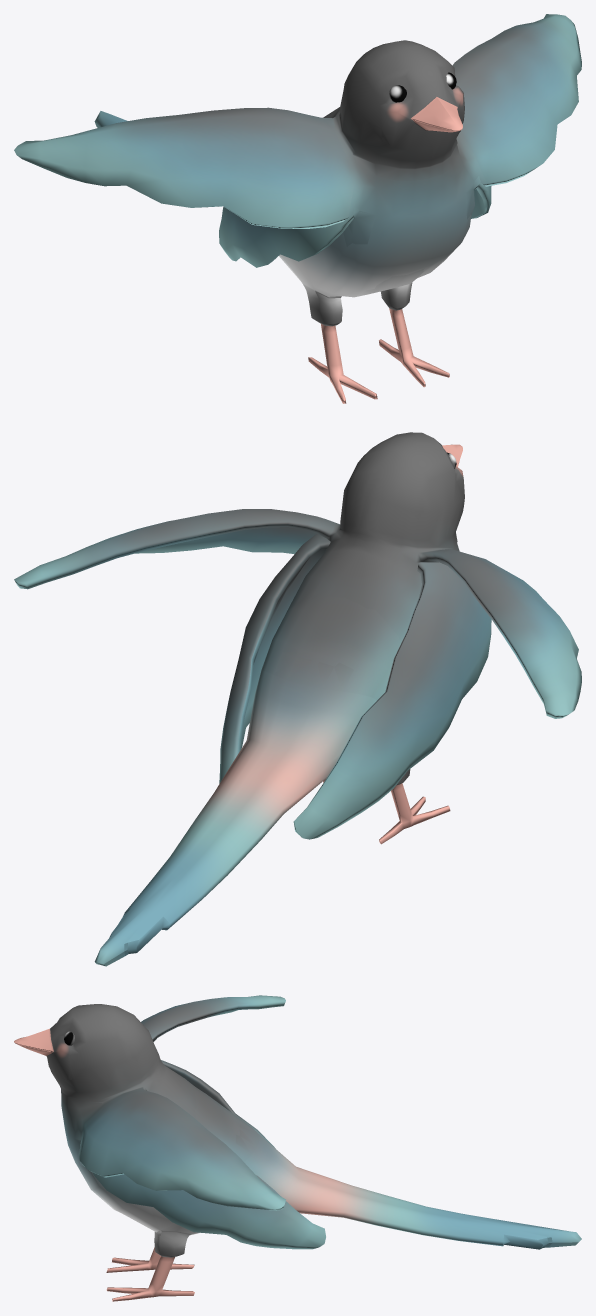
Rendered from Bird_Character_model_textured.fbx.
3 renders of one model, top to bottom at view 1: azimuth 30°, elevation 25°; view 2: azimuth 150°, elevation 25°; view 3: azimuth 270°, elevation 25°, orthographic. The views are drawn at different scales.
Visible parts, largest first — view 1: Bird_wings_geo, Bird_geo; view 2: Bird_wings_geo, Bird_geo; view 3: Bird_wings_geo, Bird_geo.
Part boxes in pixels (left/top/right/bottom): Bird_wings_geo: left=14, top=14, right=581, bottom=403; Bird_geo: left=219, top=63, right=491, bottom=296; Bird_wings_geo: left=14, top=432, right=581, bottom=966; Bird_geo: left=219, top=471, right=491, bottom=839; Bird_wings_geo: left=14, top=995, right=581, bottom=1301; Bird_geo: left=47, top=1018, right=325, bottom=1249.
Size of the model in its own units: 3.59 by 2.17 by 4.07.
Materials: 1 (1 with a texture image).
